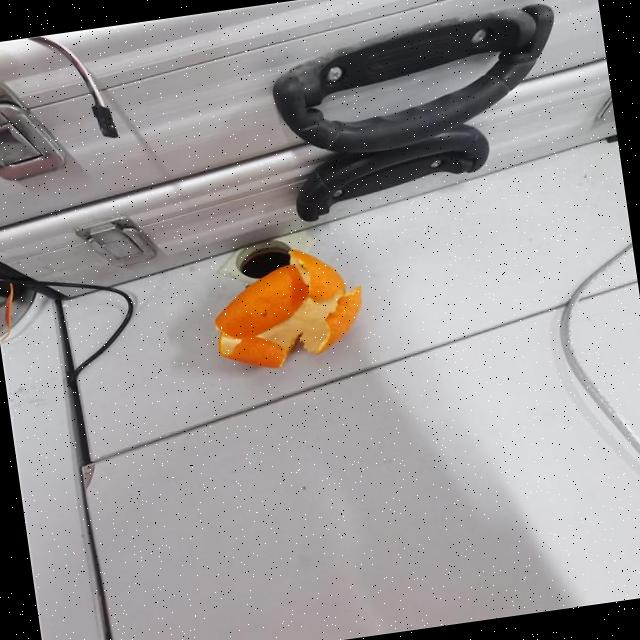orange-peel: (204, 238, 372, 376)
